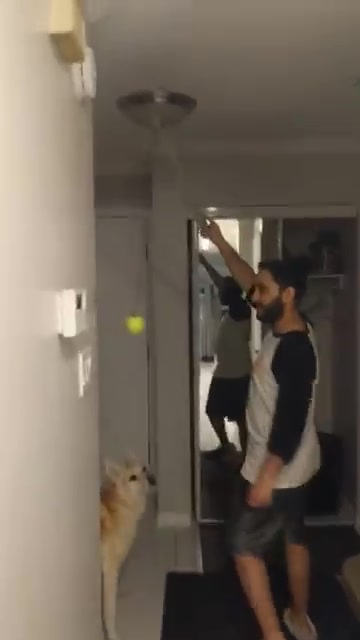tennis_ball: (124, 313, 147, 336)
